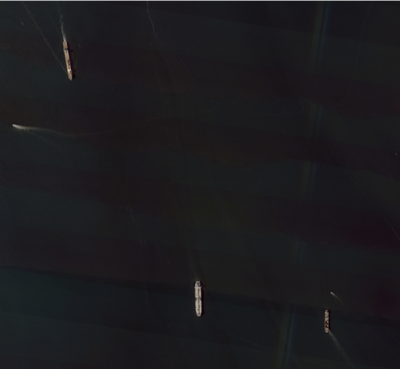boat: (27, 17, 33, 19)
